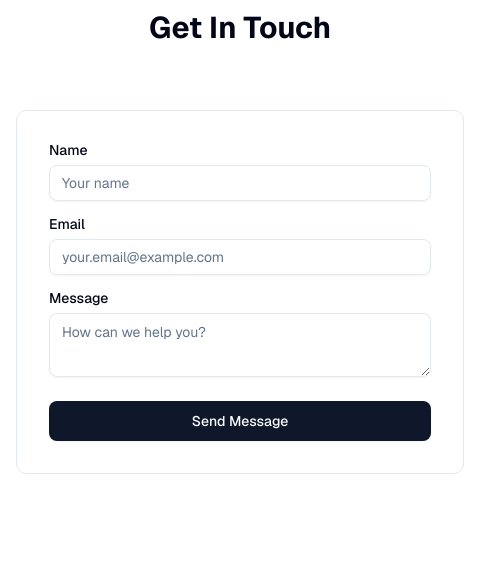
Test case: Contact › shows error message on failed form submission
This screenshot has width=481, height=573.
# Fill in the form
Type "John Doe" into the field labelled "Name".
click(240, 183); type("John Doe")  # box x1=49 y1=165 x2=431 y2=201
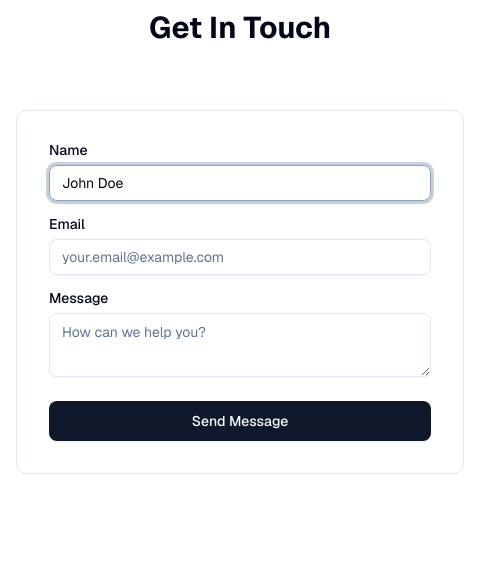
Type "john@example.com" into the field labelled "Email".
click(240, 257); type("john@example.com")  # box x1=49 y1=239 x2=431 y2=275
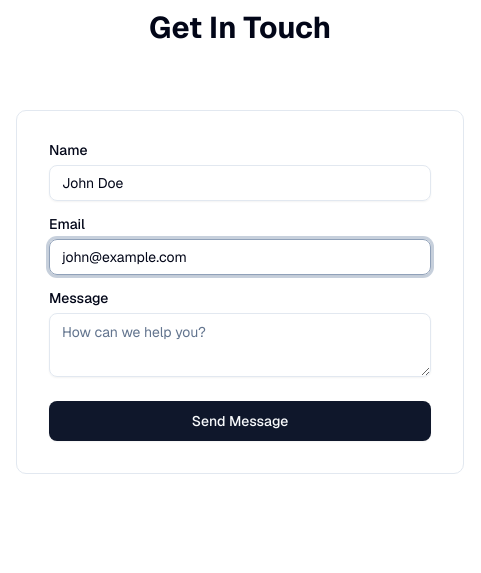
Type "Test message" into the text box labelled "Message".
click(240, 345); type("Test message")  # box x1=49 y1=313 x2=431 y2=377
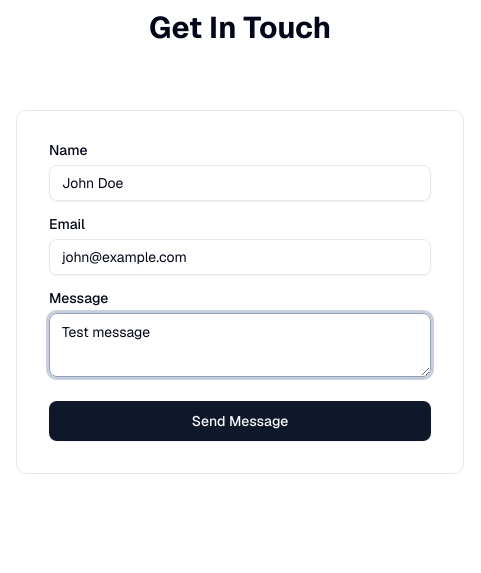
# Submit the form
Click the button "Send Message".
click(240, 421)  # box x1=49 y1=401 x2=431 y2=441
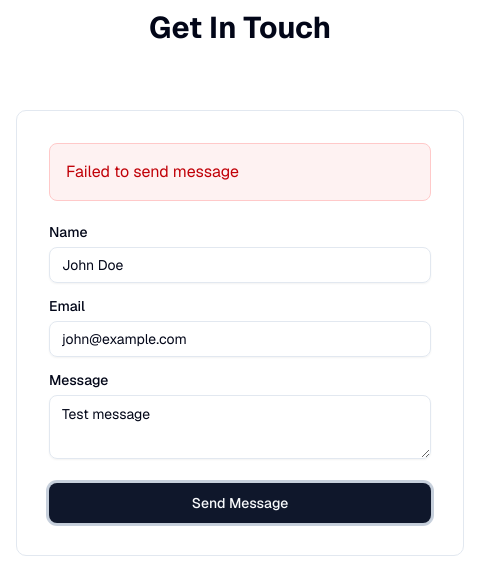
Now the message reads "Failed to send message", box x1=66 y1=161 x2=239 y2=182
